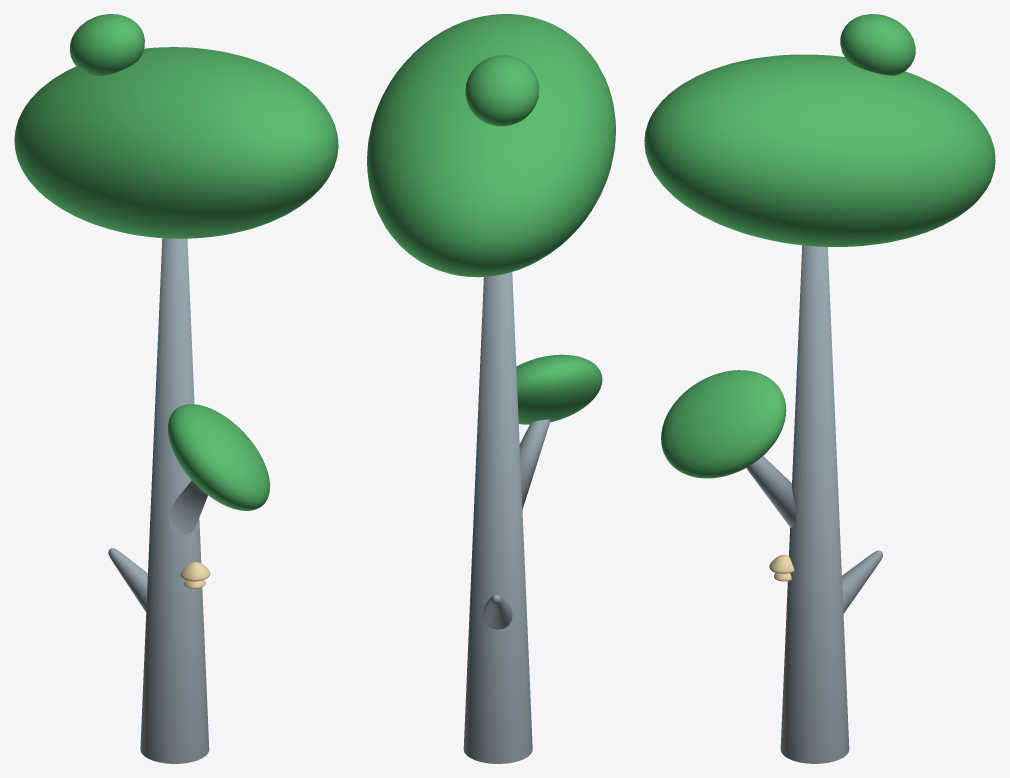
The model's file is Tree_6.fbx.
3 renders of one model, left to right at view 1: azimuth 30°, elevation 25°; view 2: azimuth 150°, elevation 25°; view 3: azimuth 270°, elevation 25°, orthographic.
Visible parts, largest first — view 1: Tree_6; view 2: Tree_6; view 3: Tree_6.
Part boxes in pixels (x1,y1,x2,y2): Tree_6: (14, 14, 338, 763); Tree_6: (367, 14, 615, 763); Tree_6: (644, 14, 995, 763).
Size of the model in its own units: 170 by 511 by 227.
